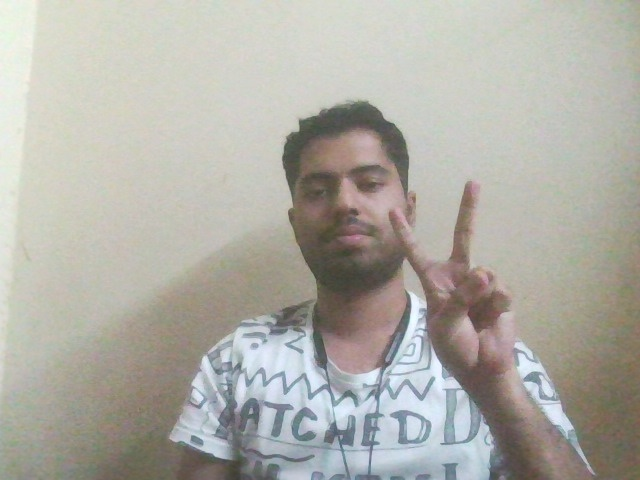Hello: (393, 155, 528, 389)
